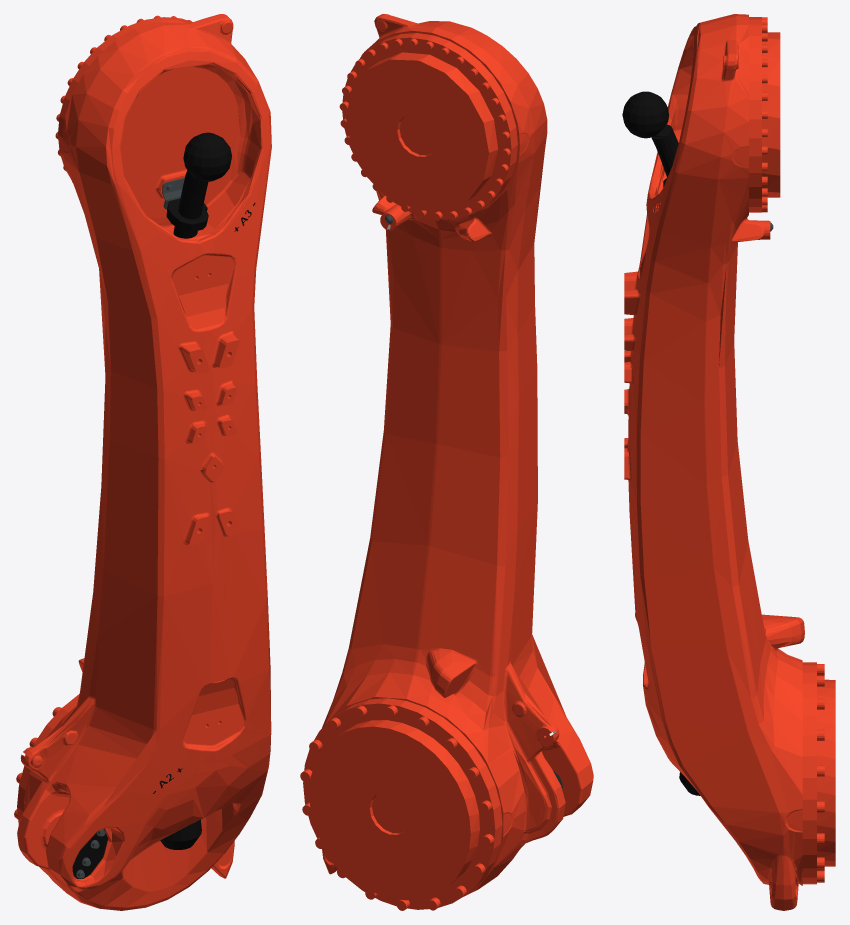
3 renders of one model, left to right at view 1: azimuth 30°, elevation 25°; view 2: azimuth 150°, elevation 25°; view 3: azimuth 270°, elevation 25°, orthographic. The views are drawn at different scales.
Visible parts, largest first — view 1: link_2; view 2: link_2; view 3: link_2.
Boxes of the visible parts, x1=… form: link_2: x1=14, y1=14, x2=271, y2=910; link_2: x1=300, y1=14, x2=593, y2=910; link_2: x1=622, y1=14, x2=835, y2=910.
Size of the model in its own units: 0.5613 by 0.455 by 2.01.
